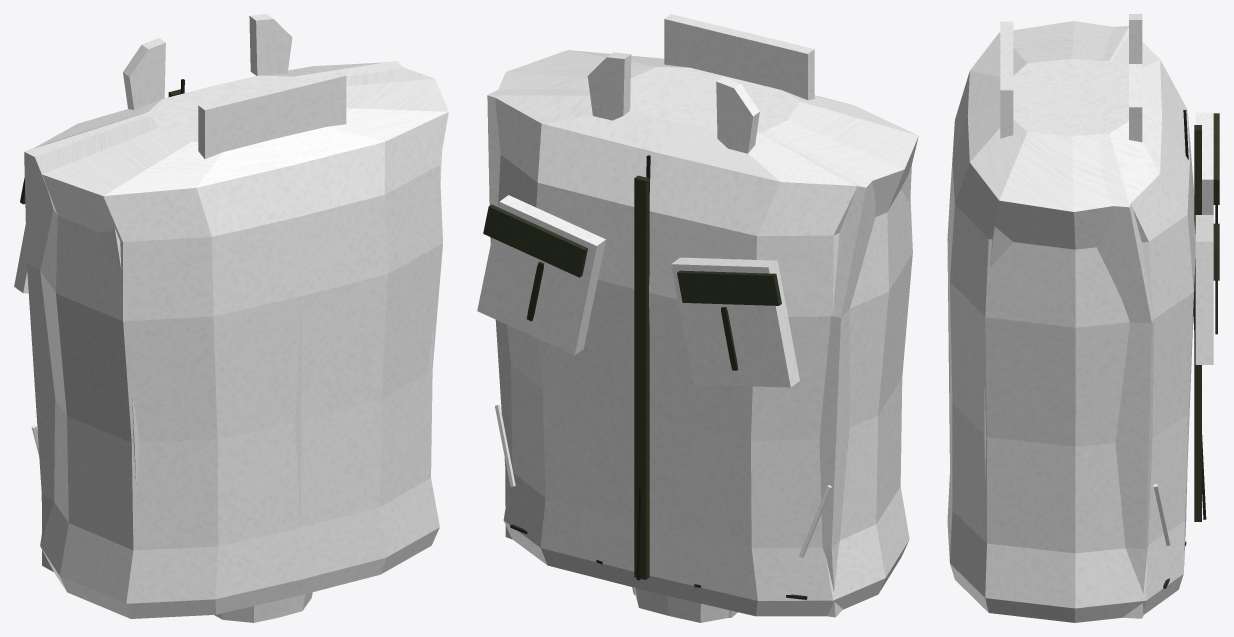
The model's file is jacket_acu.glb.
The picture shows the model from 3 angles, left to right: view 1: azimuth 30°, elevation 25°; view 2: azimuth 150°, elevation 25°; view 3: azimuth 270°, elevation 25°; orthographic projection.
Visible parts, largest first — view 1: jacket_acu_torso_LOD0_RAID_cloth.001, jacket_acu_torso_LOD1_RAID_cloth.001, jacket_acu_upperL_LOD0_RAID_cloth.001; view 2: jacket_acu_torso_LOD0_RAID_cloth.001, jacket_acu_torso_LOD1_RAID_cloth.001, jacket_acu_torso_LOD0_RAID_reinforce.001, jacket_acu_torso_LOD1_RAID_reinforce.001, jacket_acu_upperL_LOD0_RAID_cloth.001, jacket_acu_torso_LOD0_RAID_seam.001; view 3: jacket_acu_torso_LOD0_RAID_cloth.001, jacket_acu_torso_LOD1_RAID_cloth.001, jacket_acu_torso_LOD1_RAID_reinforce.001, jacket_acu_torso_LOD0_RAID_reinforce.001, jacket_acu_torso_LOD0_RAID_zip.001.
Part boxes in pixels (x1,y1,x2,y2): jacket_acu_torso_LOD0_RAID_cloth.001: (26, 14, 448, 618); jacket_acu_torso_LOD1_RAID_cloth.001: (14, 60, 441, 571); jacket_acu_upperL_LOD0_RAID_cloth.001: (214, 592, 312, 622); jacket_acu_torso_LOD0_RAID_cloth.001: (487, 18, 918, 616); jacket_acu_torso_LOD1_RAID_cloth.001: (477, 14, 911, 617); jacket_acu_torso_LOD0_RAID_reinforce.001: (484, 176, 780, 522); jacket_acu_torso_LOD1_RAID_reinforce.001: (483, 175, 781, 579); jacket_acu_upperL_LOD0_RAID_cloth.001: (634, 587, 737, 622); jacket_acu_torso_LOD0_RAID_seam.001: (510, 261, 807, 599); jacket_acu_torso_LOD0_RAID_cloth.001: (947, 14, 1213, 622); jacket_acu_torso_LOD1_RAID_cloth.001: (947, 21, 1213, 618); jacket_acu_torso_LOD1_RAID_reinforce.001: (1194, 113, 1219, 521); jacket_acu_torso_LOD0_RAID_reinforce.001: (1194, 120, 1219, 467); jacket_acu_torso_LOD0_RAID_zip.001: (1183, 110, 1206, 519).
Size of the model in its own units: 0.4774 by 0.6227 by 0.2871.
4 materials, 4 textured.
